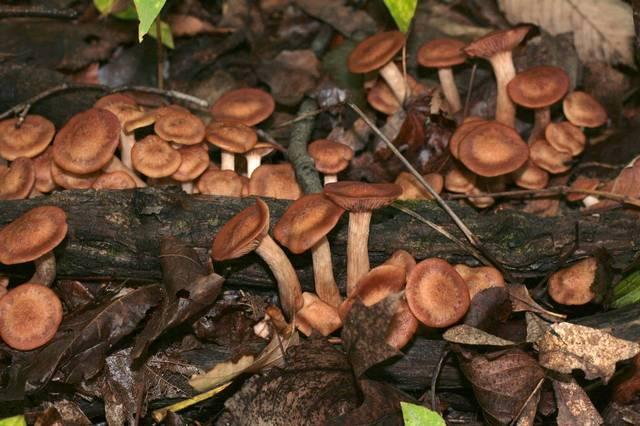edible_mushroom: (219, 174, 472, 339), (359, 23, 595, 194), (0, 91, 292, 205), (0, 200, 70, 354), (322, 179, 402, 297), (463, 25, 530, 128)
